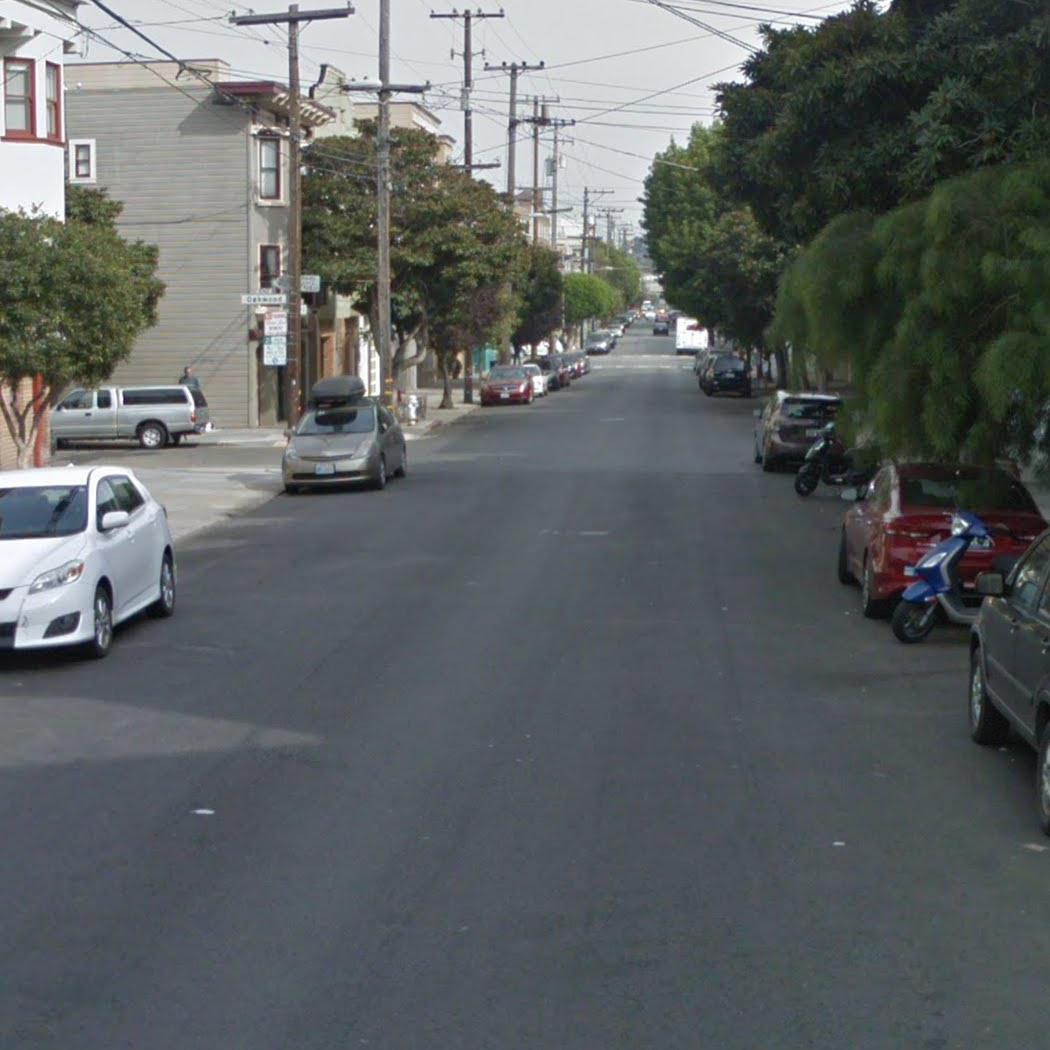2 Hour Parking: (261, 337, 289, 367)
No Parking: (262, 309, 289, 337)
